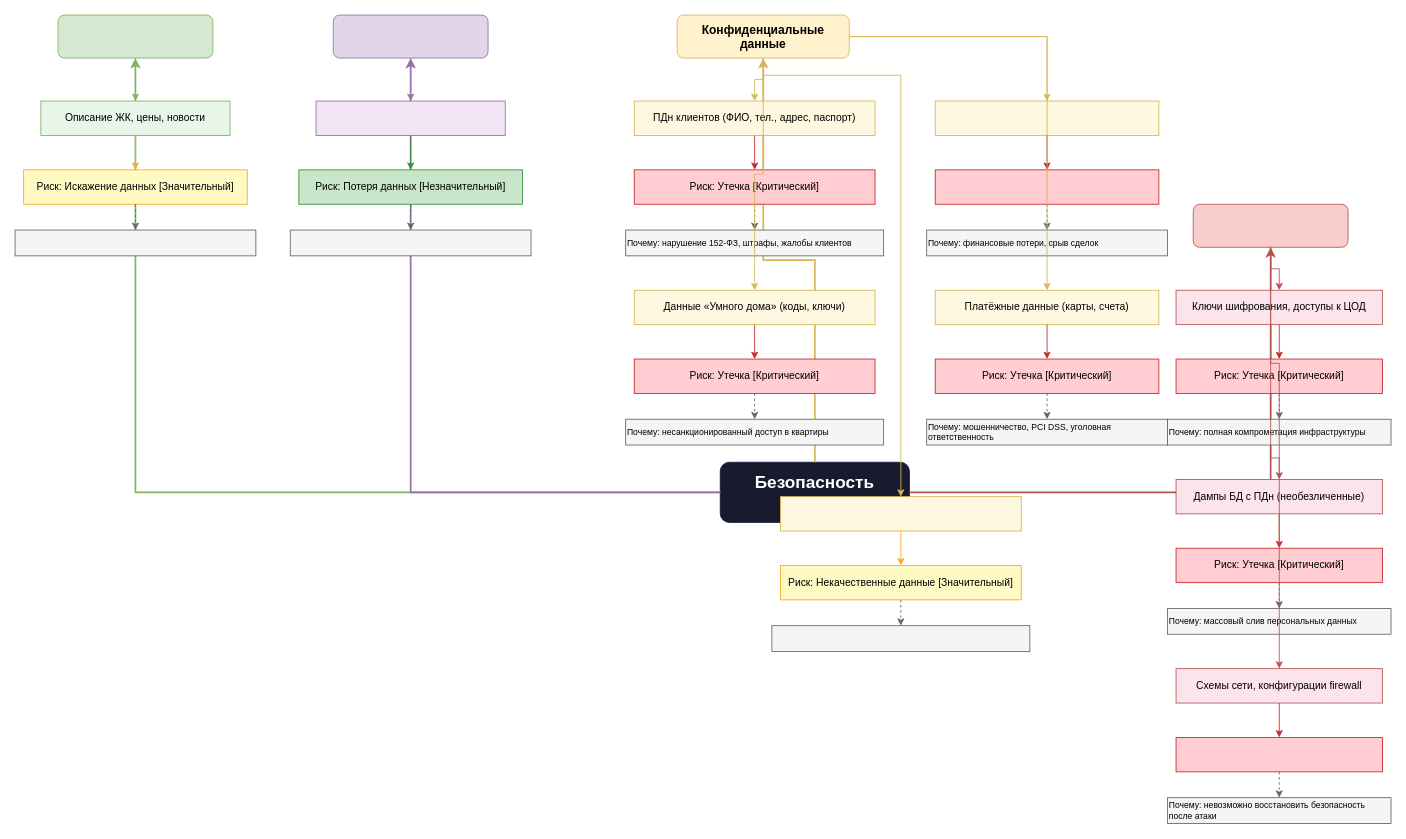
Image size: 1406x839. Some labels were removed from this diagram. Here are the shapes that lost their labels. From the top down, the box of each, then its label:
(57, 14, 213, 58): Публичные данные
(332, 14, 488, 58): Внутренние данные
(315, 100, 505, 135): Логи, отчёты, метрики
(934, 100, 1159, 135): Данные бронирования и сделок
(934, 169, 1159, 204): Риск: Искажение [Критический]
(14, 229, 256, 256): Почему: неверные цены → потеря продаж, иски
(289, 229, 531, 256): Почему: есть резервное копирование, ущерб не критичен
(1192, 203, 1348, 247): Секретные данные
(780, 496, 1021, 531): Дубликаты клиентов (некачественные данные)
(771, 625, 1030, 651): Почему: ошибки в личном кабинете, недовольство клиентов
(1175, 737, 1382, 772): Риск: Потеря [Критический]
